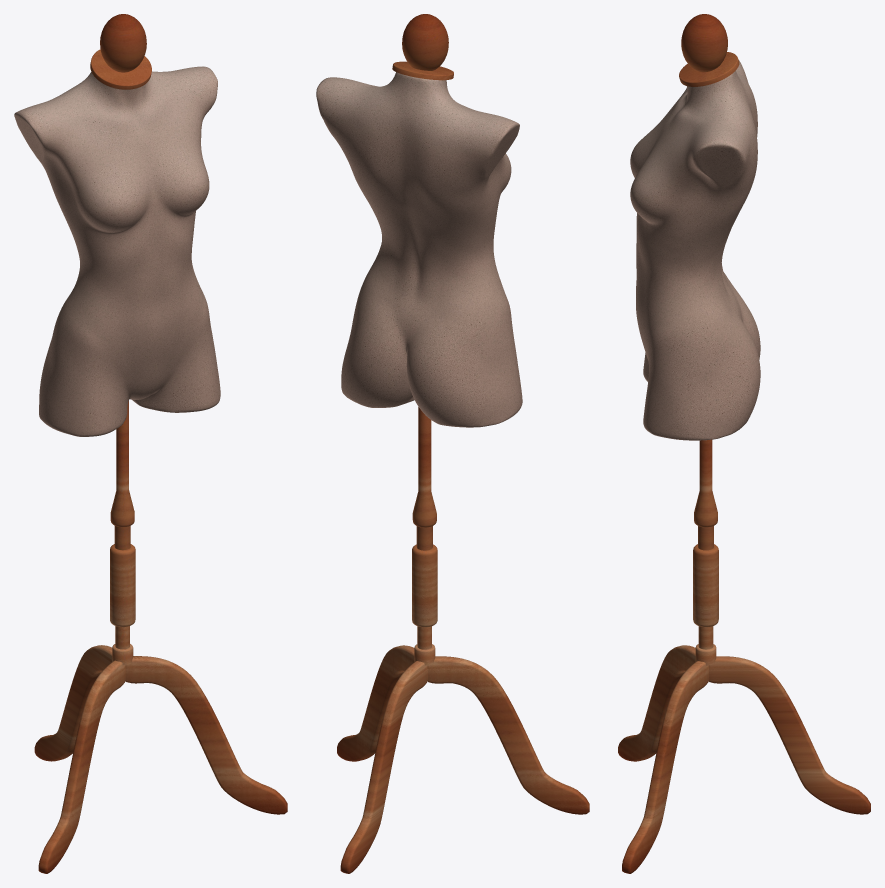
The model's file is dressform.glb.
3 renders of one model, left to right at view 1: azimuth 30°, elevation 25°; view 2: azimuth 150°, elevation 25°; view 3: azimuth 270°, elevation 25°, orthographic.
Parts seen in each view (by area): view 1: Dress Mannequin Pure, Dress Mannequin Stick; view 2: Dress Mannequin Pure, Dress Mannequin Stick; view 3: Dress Mannequin Pure, Dress Mannequin Stick.
Part boxes in pixels (x1,y1,x2,y2): Dress Mannequin Pure: (14, 66, 220, 436); Dress Mannequin Stick: (34, 14, 287, 873); Dress Mannequin Pure: (316, 72, 522, 427); Dress Mannequin Stick: (337, 14, 589, 873); Dress Mannequin Pure: (630, 60, 760, 440); Dress Mannequin Stick: (618, 14, 870, 873).
Size of the model in its own units: 0.5501 by 1.68 by 0.4814.
2 materials, 2 textured.
